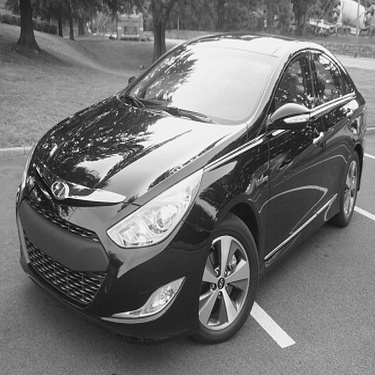car: (1, 29, 367, 349)
